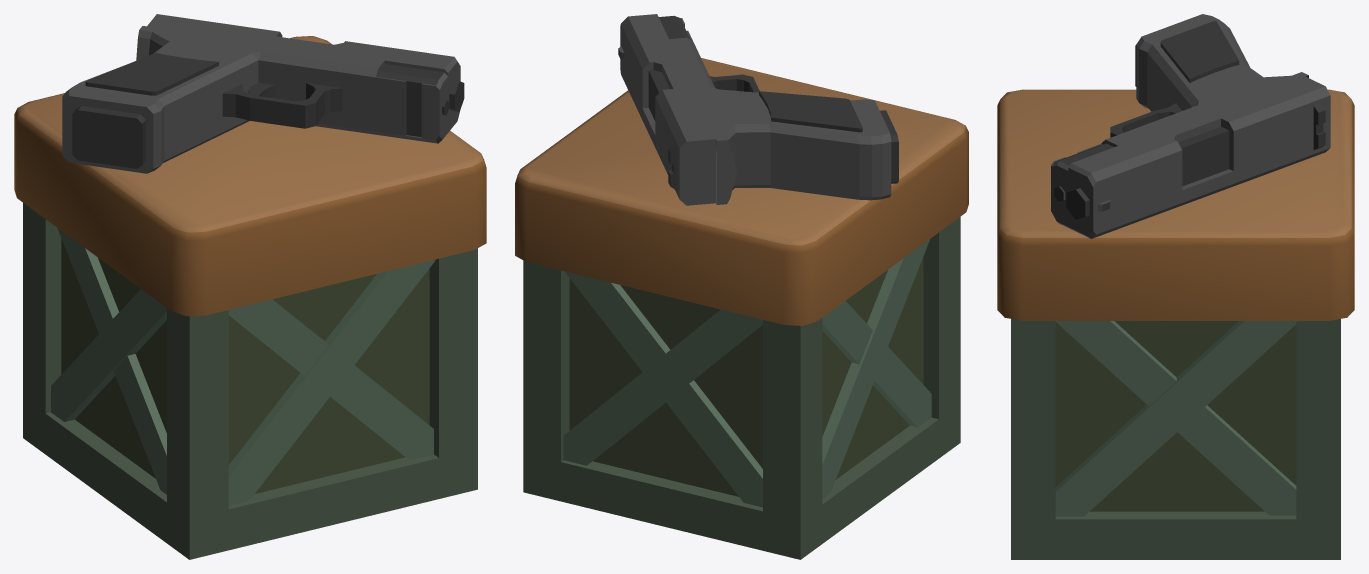
File: machine2-C895veN0.glb
The picture shows the model from 3 angles, left to right: view 1: azimuth 30°, elevation 25°; view 2: azimuth 150°, elevation 25°; view 3: azimuth 270°, elevation 25°; orthographic projection. The views are drawn at different scales.
Parts seen in each view (by area): view 1: Machine_2; view 2: Machine_2; view 3: Machine_2.
Boxes of the visible parts, bbox=[...] form: Machine_2: bbox=[14, 14, 486, 559]; Machine_2: bbox=[515, 14, 968, 559]; Machine_2: bbox=[997, 14, 1354, 559].
Size of the model in its own units: 0.9341 by 1.06 by 0.8584.
1 material, 1 textured.
